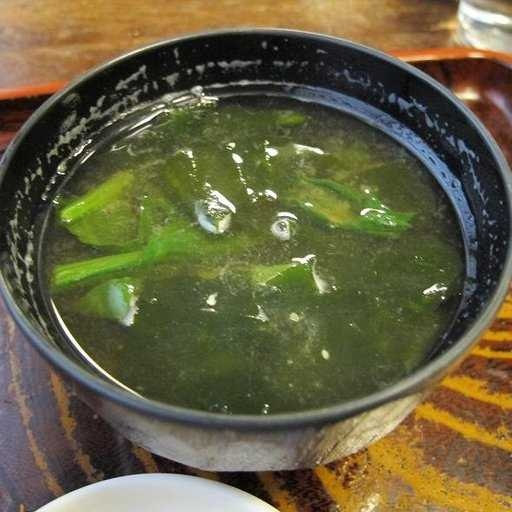soup: (28, 99, 472, 411)
